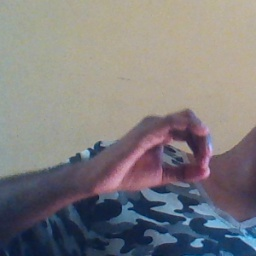O: (94, 105, 220, 203)
